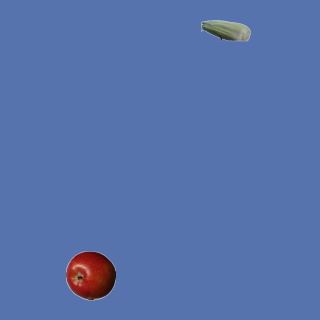Apple Braeburn: (65, 250, 115, 300)
Corn Husk: (200, 5, 250, 55)
